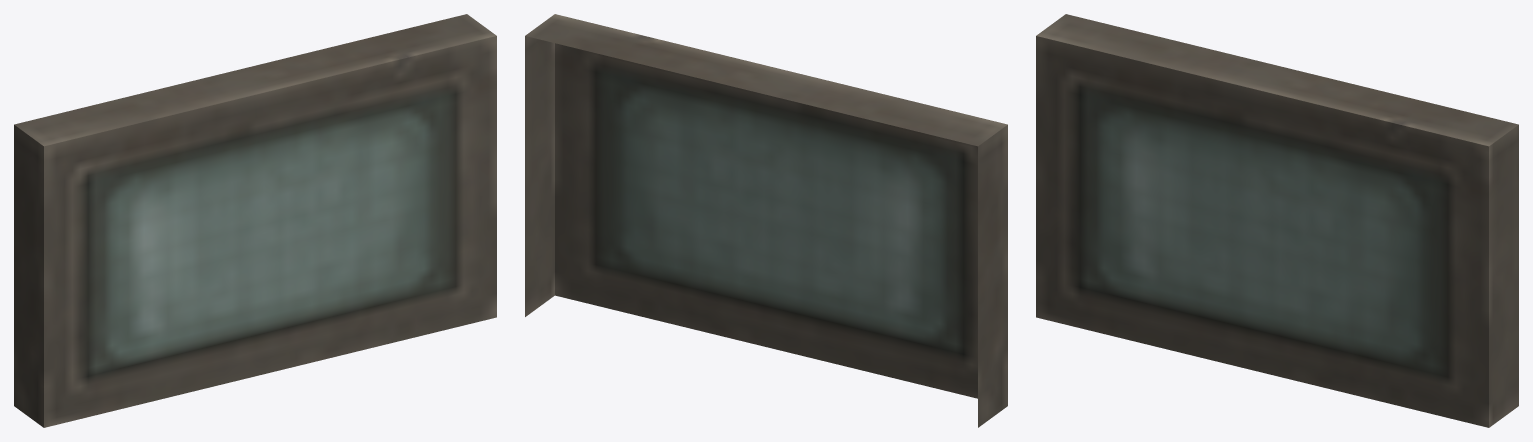
Rendered from machine_3_2.FBX.
3 views of the same model, side by side, from view 1: azimuth 30°, elevation 25°; view 2: azimuth 150°, elevation 25°; view 3: azimuth 330°, elevation 25° (orthographic).
Parts seen in each view (by area): view 1: Object030; view 2: Object030; view 3: Object030.
Boxes of the visible parts, <box> form: Object030: <box>14,14,496,427</box>; Object030: <box>525,14,1007,427</box>; Object030: <box>1036,14,1518,427</box>.
Bounding box in the file's own units: 30.98 × 18.39 × 3.54.
